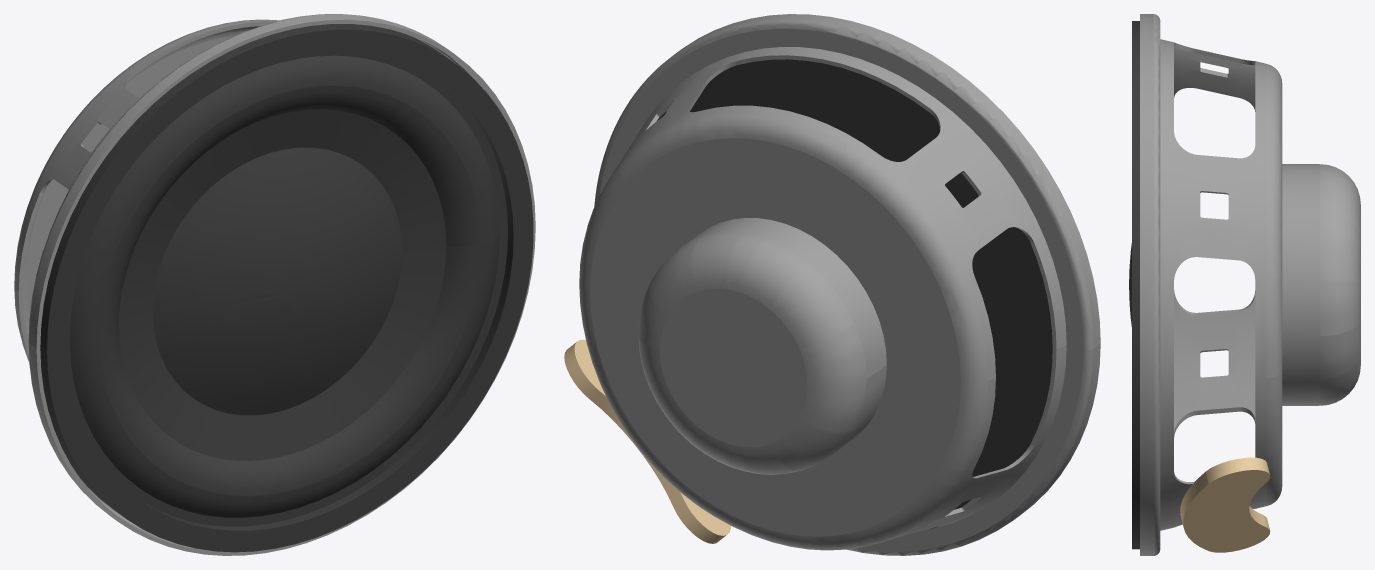
The model's file is 40mm speaker 3W 4 ohm pair.glb.
The picture shows the model from 3 angles, left to right: view 1: azimuth 30°, elevation 25°; view 2: azimuth 150°, elevation 25°; view 3: azimuth 270°, elevation 25°; orthographic projection. The views are drawn at different scales.
Visible parts, largest first — view 1: empty_3, empty_2; view 2: empty_2, empty_3, empty_4; view 3: empty_2, empty_4, empty_3.
Boxes of the visible parts, <box> form: empty_3: <box>40,24,533,552</box>; empty_2: <box>14,14,535,555</box>; empty_2: <box>579,14,1100,555</box>; empty_3: <box>657,59,1052,509</box>; empty_4: <box>564,339,730,543</box>; empty_2: <box>1140,14,1360,555</box>; empty_4: <box>1180,457,1270,552</box>; empty_3: <box>1129,21,1139,549</box>.
Size of the model in its own units: 0.04 by 0.04 by 0.0171.
